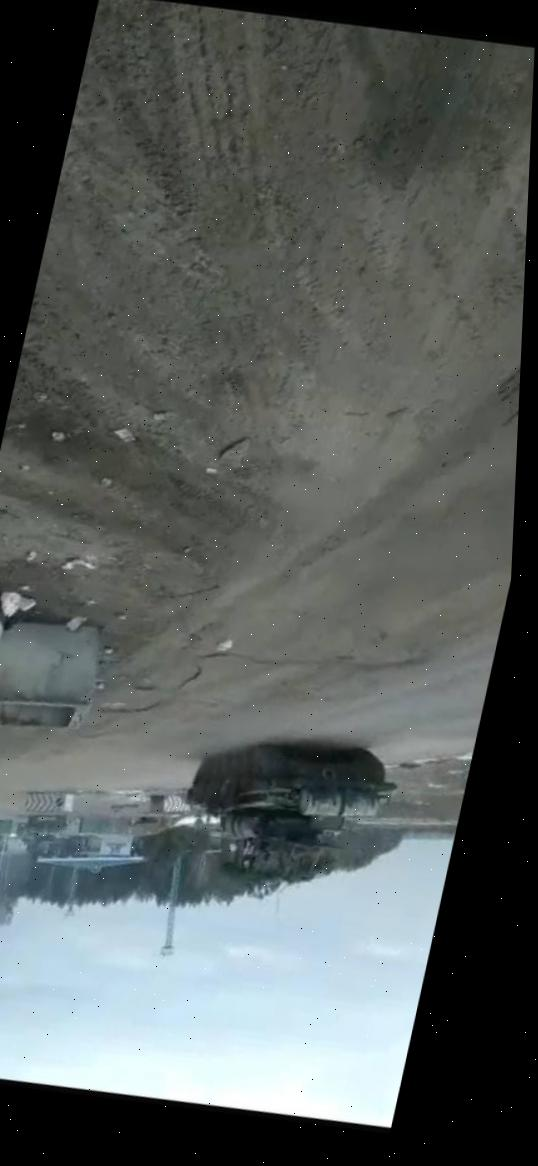tank: (164, 707, 409, 906), (22, 810, 69, 852), (0, 815, 16, 857)
